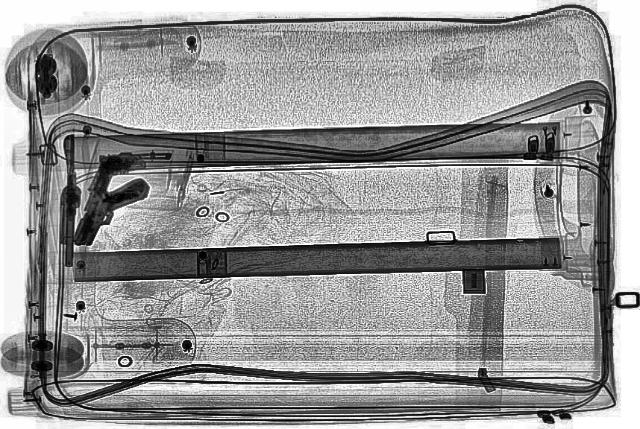Gun: (56, 146, 166, 258), (68, 172, 152, 250), (49, 134, 85, 268)
